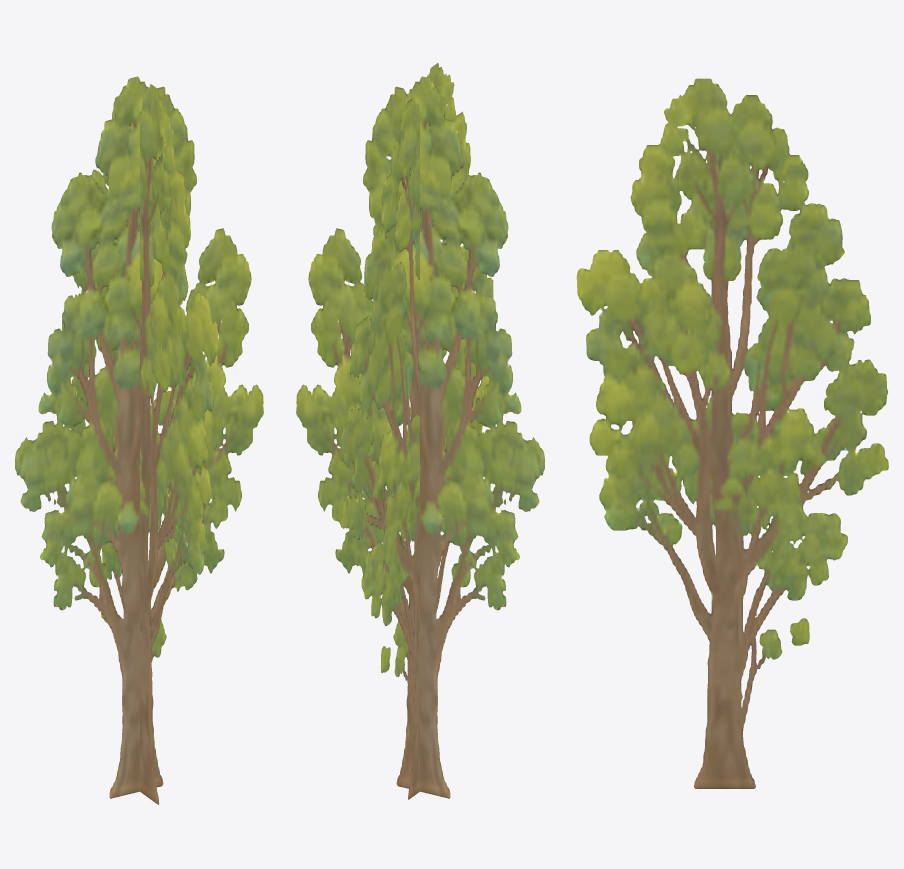
The model's file is tree-11-far.glb.
3 renders of one model, left to right at view 1: azimuth 30°, elevation 25°; view 2: azimuth 150°, elevation 25°; view 3: azimuth 270°, elevation 25°, orthographic.
Size of the model in its own units: 0.3628 by 0.9995 by 0.397.
1 material, 1 textured.
